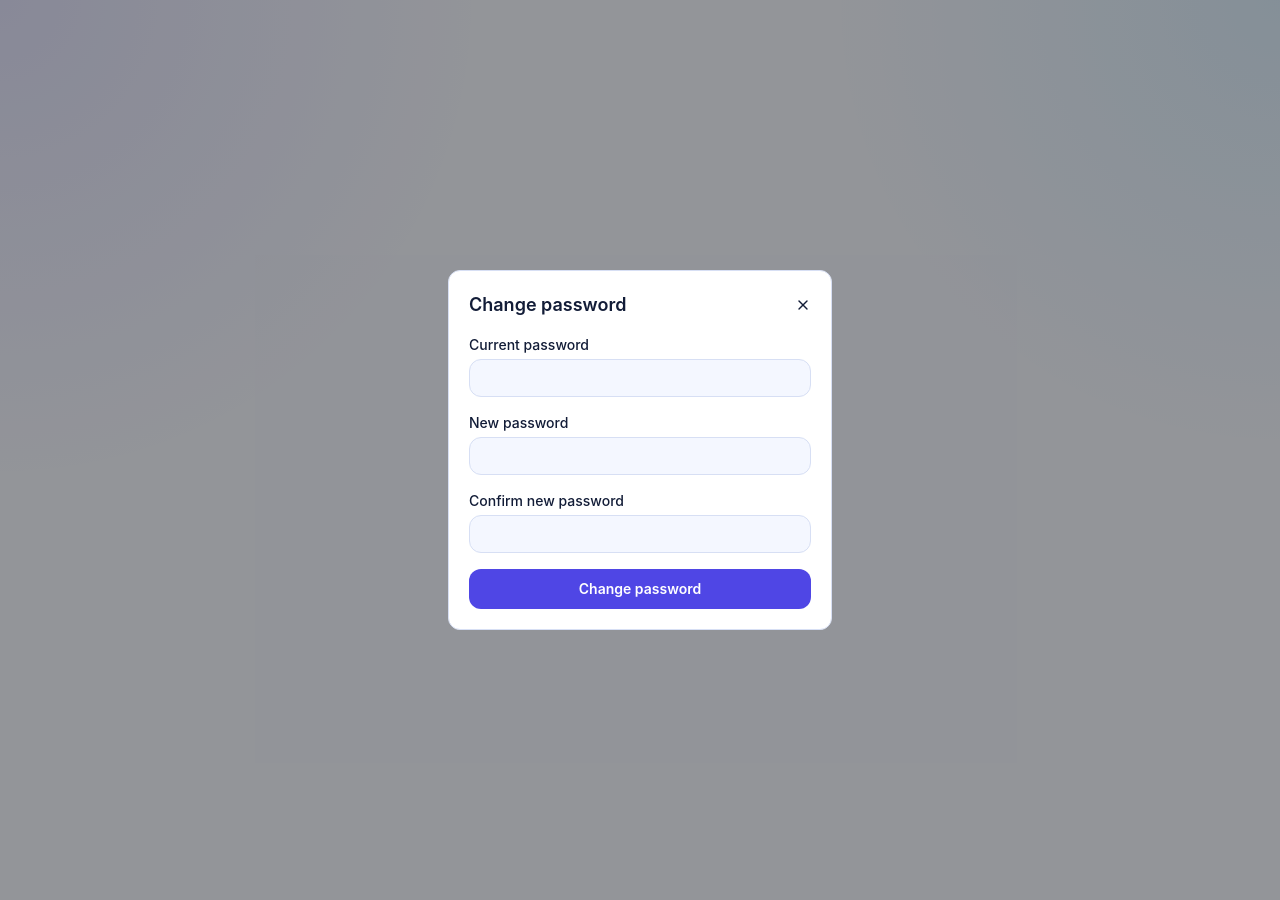
Test: ChangePasswordModal › blocks submit when the confirm password does not match
Type "OldPass123" into the password field labelled "Current password" at (640, 378), box [469,359,811,397]
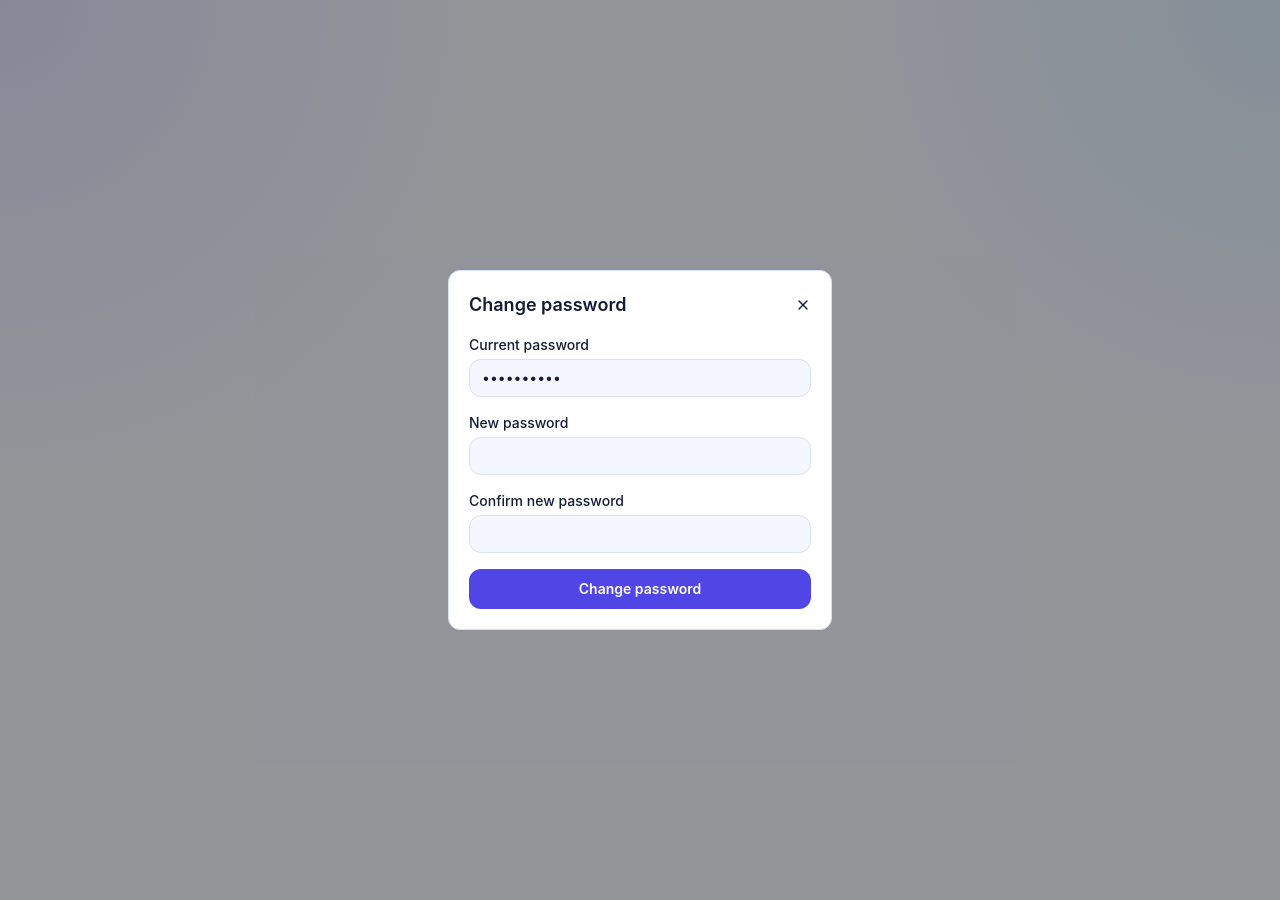
Type "NewPass123" into the password field labelled "New password" at (640, 456), box [469,437,811,475]
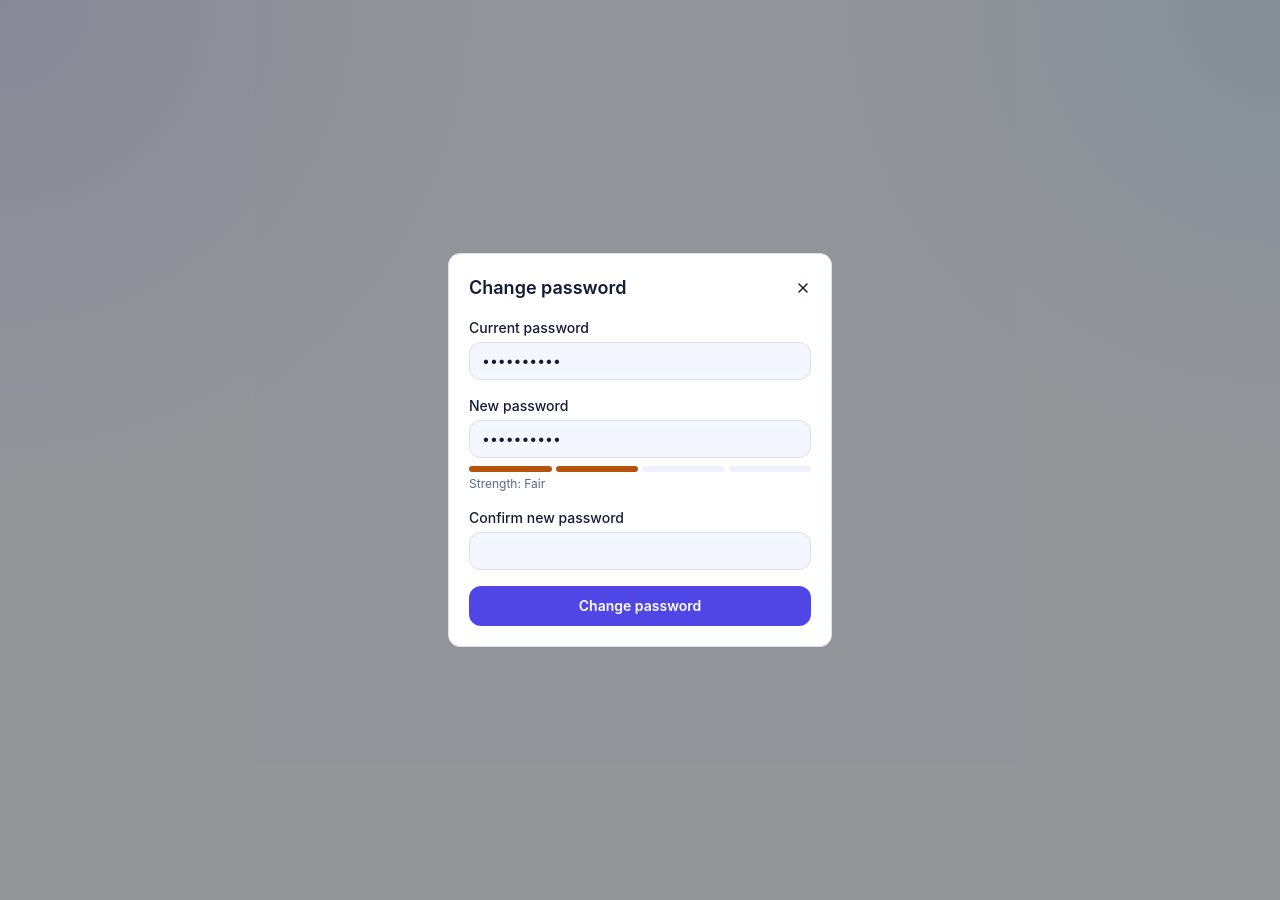
Type "Different123" into the password field labelled "Confirm new password" at (640, 551), box [469,532,811,570]
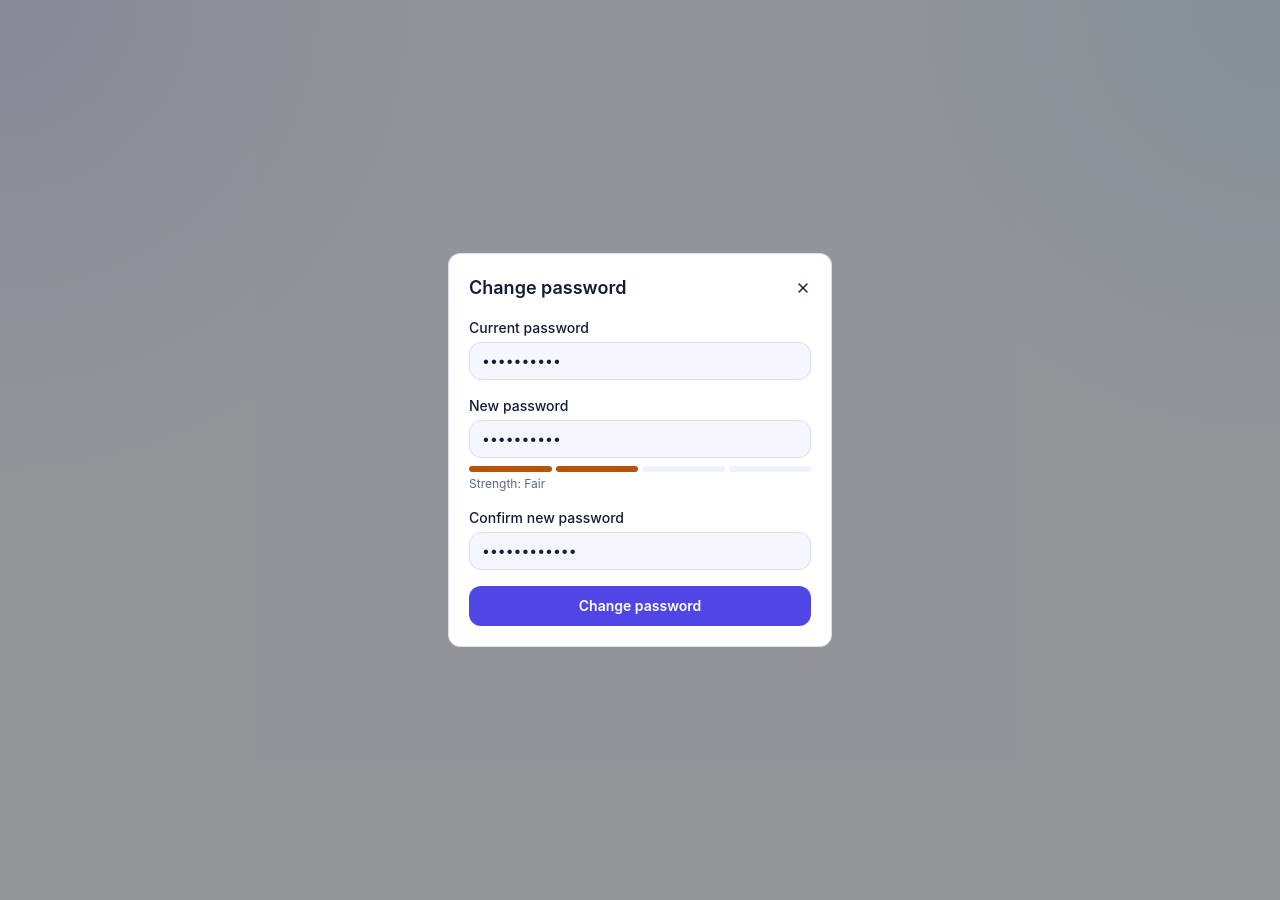
Click the button "Change password" at (640, 606), box [469,586,811,626]
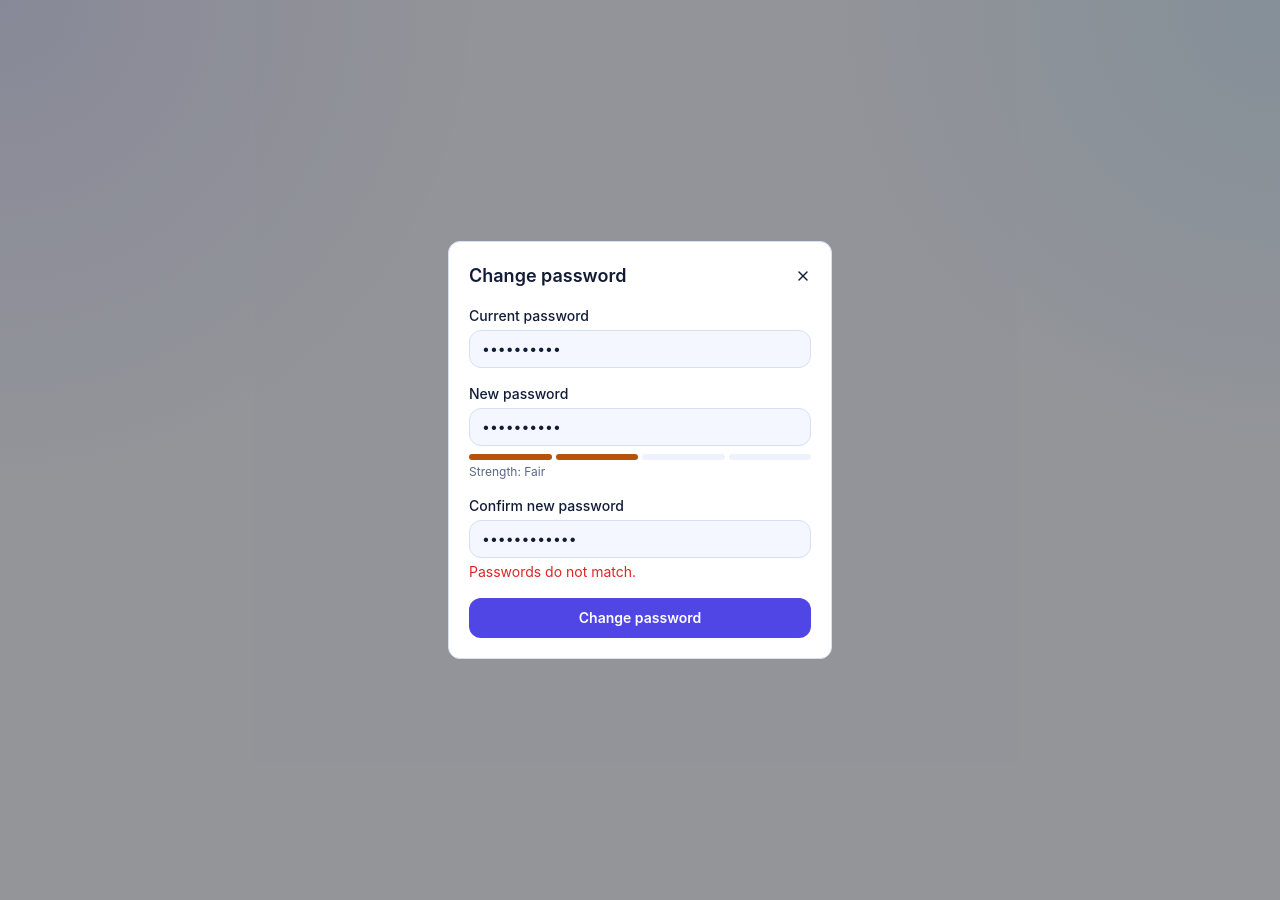
Expected: the text "Passwords do not match." is shown, [469,563,636,580]
